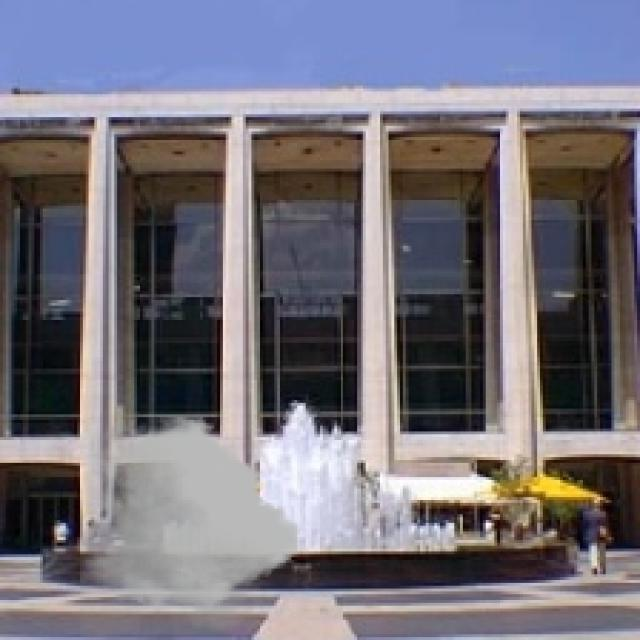Smoke: (80, 412, 300, 637)
